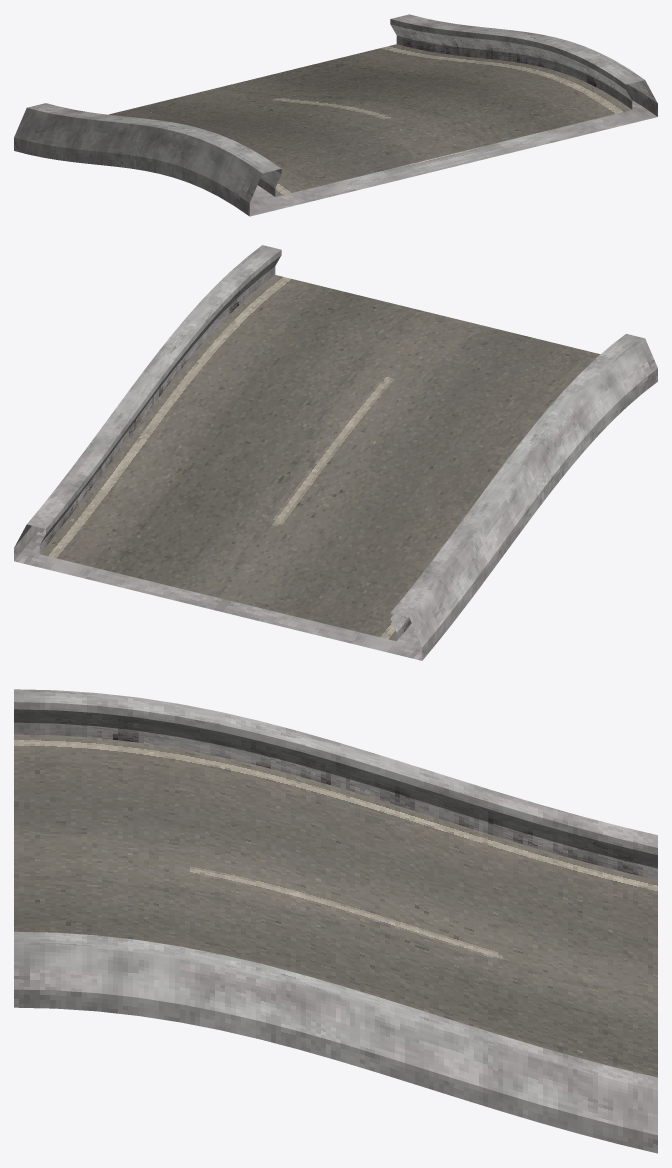
The model's file is straight1.glb.
3 views of the same model, one above another, from view 1: azimuth 30°, elevation 25°; view 2: azimuth 150°, elevation 25°; view 3: azimuth 270°, elevation 25° (orthographic). The views are drawn at different scales.
Parts seen in each view (by area): view 1: road-Straight-Flat-BiSlopeDown-Down1-Center-Size1; view 2: road-Straight-Flat-BiSlopeDown-Down1-Center-Size1; view 3: road-Straight-Flat-BiSlopeDown-Down1-Center-Size1.
Part boxes in pixels (<box>): road-Straight-Flat-BiSlopeDown-Down1-Center-Size1: <box>14,14,657,216</box>; road-Straight-Flat-BiSlopeDown-Down1-Center-Size1: <box>14,245,657,660</box>; road-Straight-Flat-BiSlopeDown-Down1-Center-Size1: <box>14,689,657,1153</box>.
Size of the model in its own units: 1 by 0.3438 by 1.
Materials: 2 (2 with a texture image).
